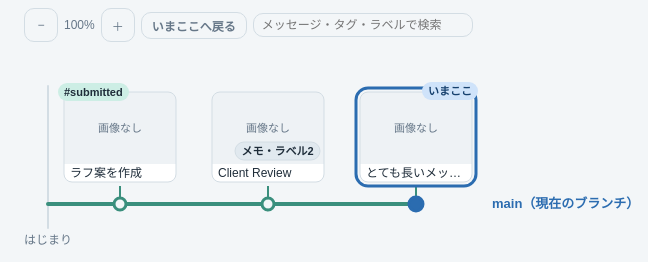
Test case: leaf search › finds a leaf by message
In the field named "葉を検索": (363, 25) [253,13,473,37], type "CLIENT"
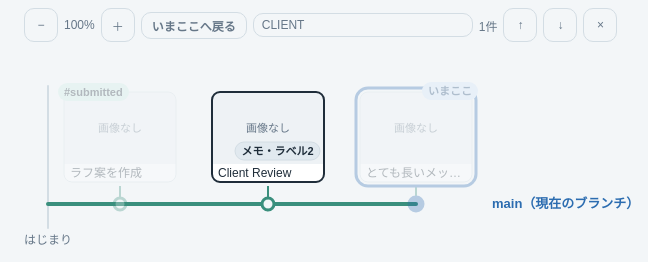
Expected: the message reads "1件", [479,20,497,34]
